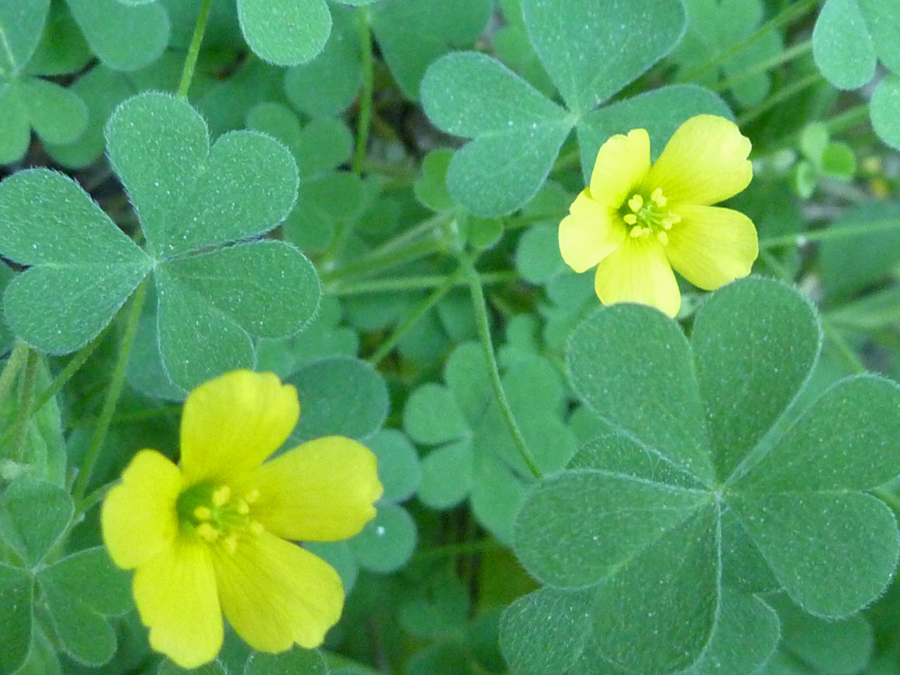oxalis: (521, 294, 900, 638), (27, 97, 322, 374), (415, 4, 725, 189)
